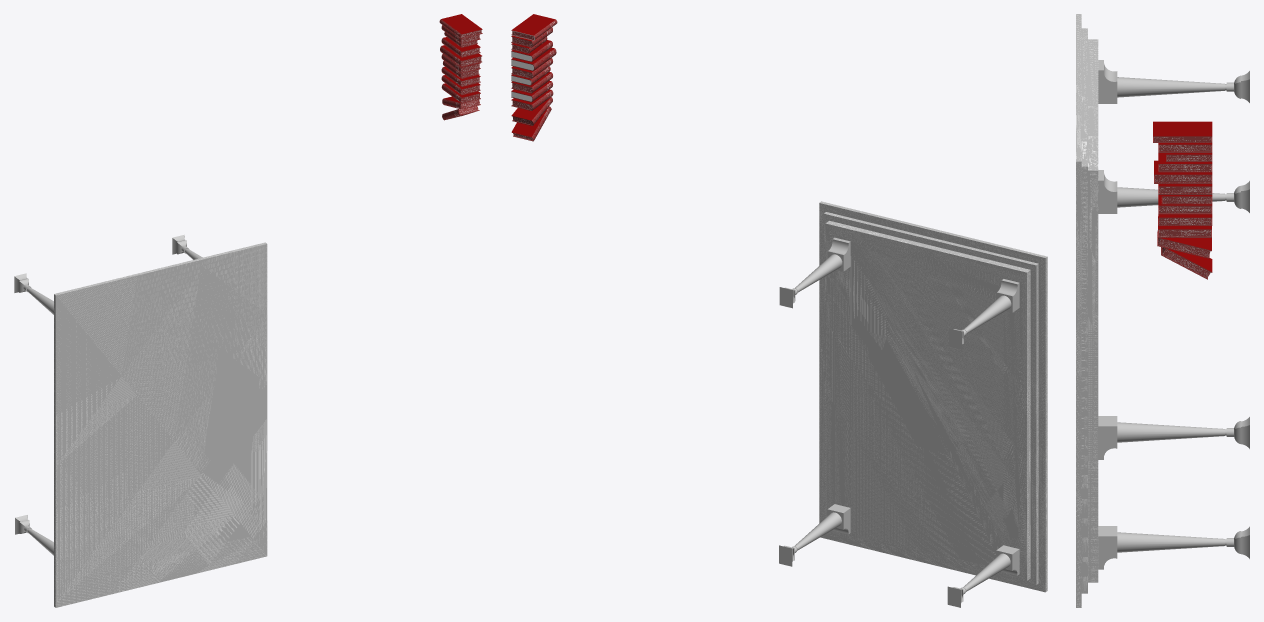
The picture shows the model from 3 angles, left to right: view 1: azimuth 30°, elevation 25°; view 2: azimuth 150°, elevation 25°; view 3: azimuth 270°, elevation 25°; orthographic projection. The views are drawn at different scales.
Visible parts, largest first — view 1: bb00ad069df73df5d1f943907d4f35fc, 110ddaf4740511d59a1974f504647073; view 2: bb00ad069df73df5d1f943907d4f35fc, 110ddaf4740511d59a1974f504647073; view 3: bb00ad069df73df5d1f943907d4f35fc, 110ddaf4740511d59a1974f504647073.
Part boxes in pixels (bbox=[...]): bb00ad069df73df5d1f943907d4f35fc: bbox=[14, 234, 267, 607]; 110ddaf4740511d59a1974f504647073: bbox=[439, 14, 482, 120]; bb00ad069df73df5d1f943907d4f35fc: bbox=[779, 201, 1047, 607]; 110ddaf4740511d59a1974f504647073: bbox=[511, 14, 557, 141]; bb00ad069df73df5d1f943907d4f35fc: bbox=[1076, 14, 1249, 607]; 110ddaf4740511d59a1974f504647073: bbox=[1153, 121, 1212, 279].
Size of the model in its own units: 2.51 by 2.37 by 0.5824.
